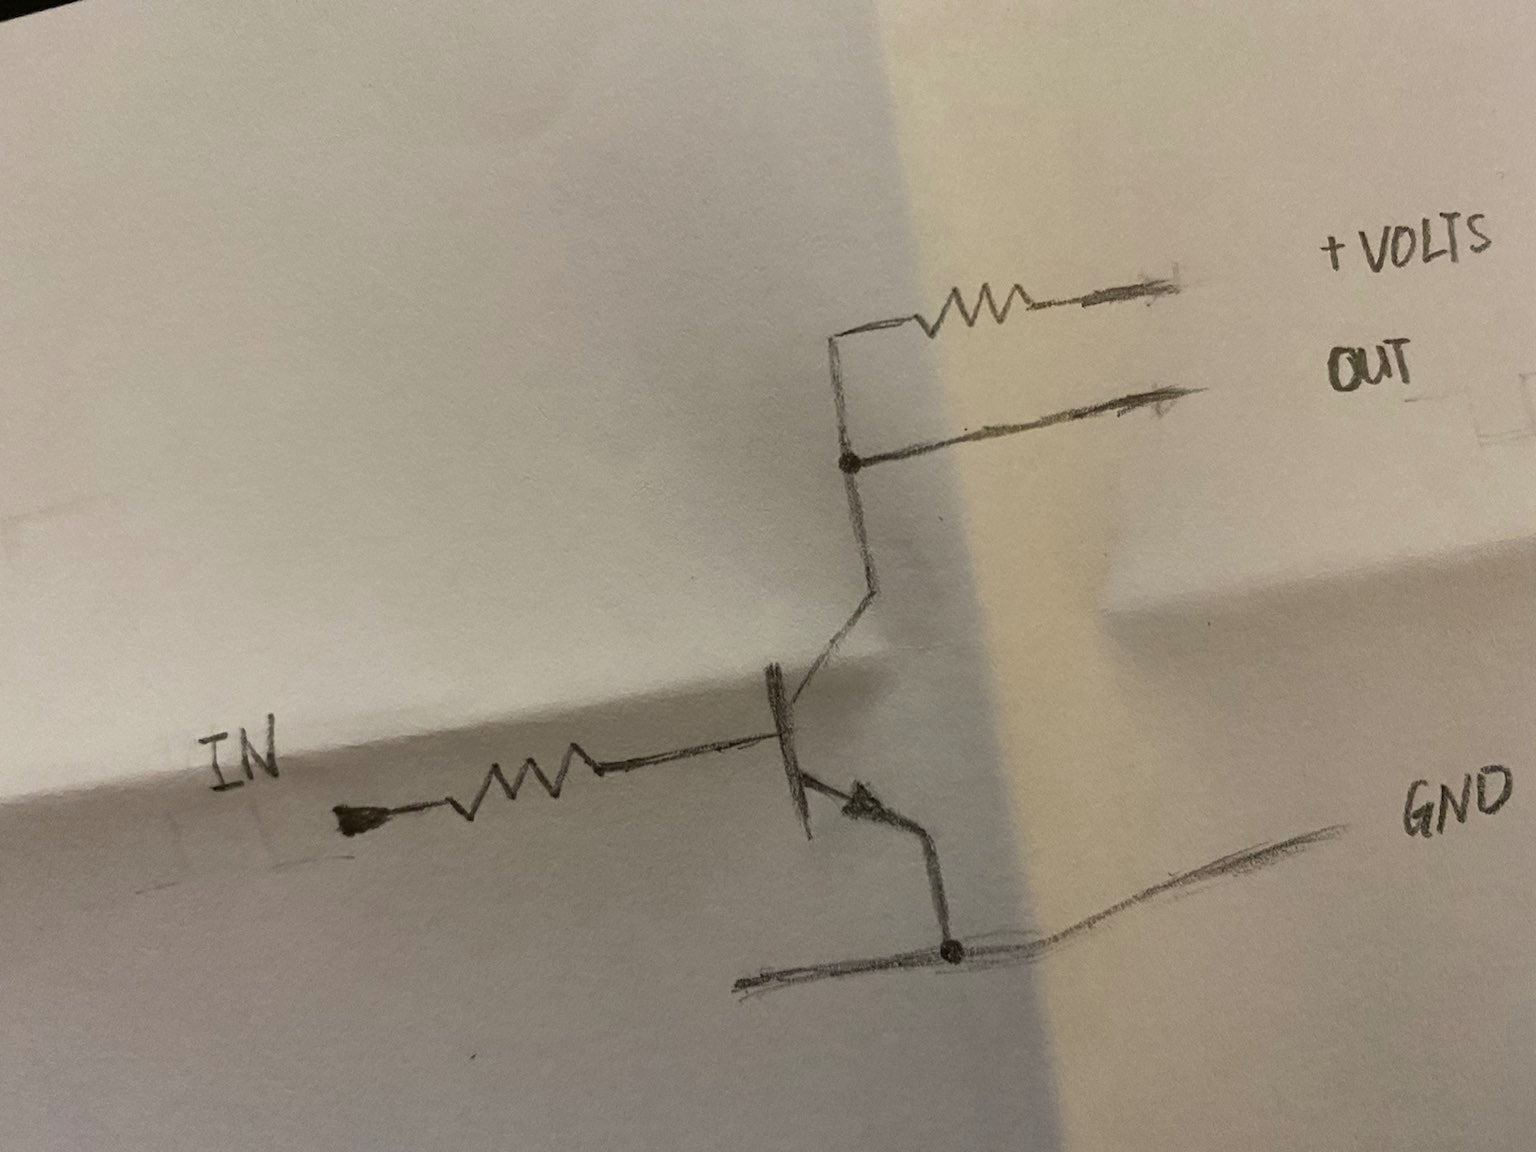junction: (914, 917, 991, 983), (820, 431, 887, 484), (820, 324, 851, 356)
resistor: (437, 736, 620, 826), (901, 278, 1049, 342)
terminal: (323, 787, 400, 845), (1139, 267, 1194, 311), (1157, 371, 1215, 411), (717, 968, 758, 1007), (1318, 814, 1357, 851)
text: (1355, 201, 1495, 278), (1398, 758, 1518, 843), (186, 709, 293, 797), (1324, 330, 1415, 404), (1316, 221, 1349, 275)
transistor: (731, 569, 972, 858)
